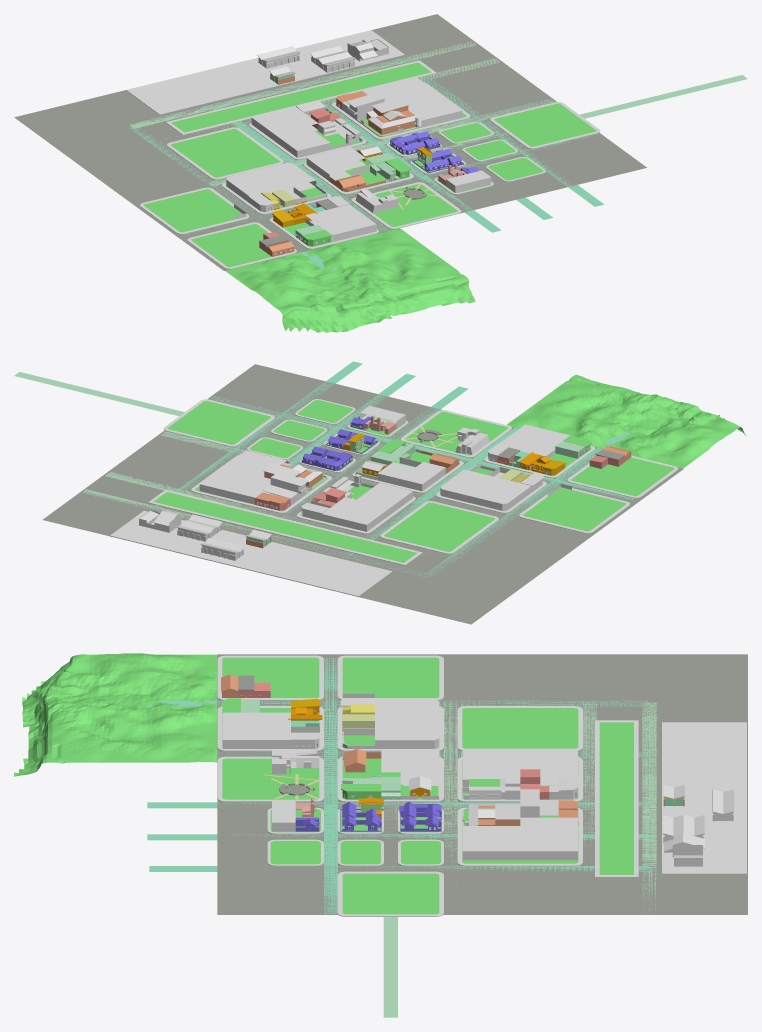
File: BaseCasas2.fbx
3 views of the same model, one above another, from view 1: azimuth 30°, elevation 25°; view 2: azimuth 150°, elevation 25°; view 3: azimuth 270°, elevation 25° (orthographic). The views are drawn at different scales.
Parts seen in each view (by area): view 1: Piso-calle, Tierra.002, Tierra, Esquinas, jugador plane, tierra, Plane.008, Plane.027, Cuadra2, Cuadra1, Plane.003, calle (+6 smaller); view 2: Piso-calle, Tierra, Esquinas, Tierra.002, jugador plane, tierra, Plane.027, Plane.008, Cuadra2, calle, Plane.003, Cuadra1 (+4 smaller); view 3: Piso-calle, Tierra, Esquinas, Tierra.002, jugador plane, tierra, Plane.027, Plane.008, Cuadra2, Cuadra1, calle, Plane.003 (+5 smaller).
Boxes of the visible parts, x1,y1,x2,y2 form: Piso-calle: [14, 14, 646, 270]; Tierra.002: [225, 228, 475, 332]; Tierra: [144, 103, 596, 267]; Esquinas: [126, 30, 600, 269]; jugador plane: [129, 41, 747, 271]; tierra: [171, 62, 431, 132]; Plane.008: [251, 106, 330, 157]; Plane.027: [362, 77, 462, 127]; Cuadra2: [226, 162, 316, 203]; Cuadra1: [305, 204, 376, 241]; Plane.003: [306, 147, 369, 180]; calle: [165, 60, 436, 134]; Piso-calle: [42, 364, 683, 624]; Tierra: [167, 400, 674, 551]; Esquinas: [110, 399, 678, 596]; Tierra.002: [507, 375, 746, 468]; jugador plane: [14, 361, 634, 577]; tierra: [153, 492, 416, 562]; Plane.027: [199, 450, 285, 504]; Plane.008: [322, 483, 412, 531]; Cuadra2: [440, 469, 531, 510]; calle: [148, 489, 422, 565]; Plane.003: [377, 457, 445, 491]; Cuadra1: [498, 424, 569, 456]; Piso-calle: [217, 654, 747, 914]; Tierra: [222, 657, 578, 914]; Esquinas: [217, 655, 746, 916]; Tierra.002: [14, 653, 217, 776]; jugador plane: [147, 658, 656, 1017]; tierra: [599, 722, 633, 874]; Plane.027: [462, 817, 577, 860]; Plane.008: [462, 749, 577, 785]; Cuadra2: [375, 699, 439, 748]; Cuadra1: [222, 712, 290, 748]; calle: [595, 720, 638, 877]; Plane.003: [381, 750, 439, 785].
Size of the model in its own units: 60362 by 3118 by 51437.
